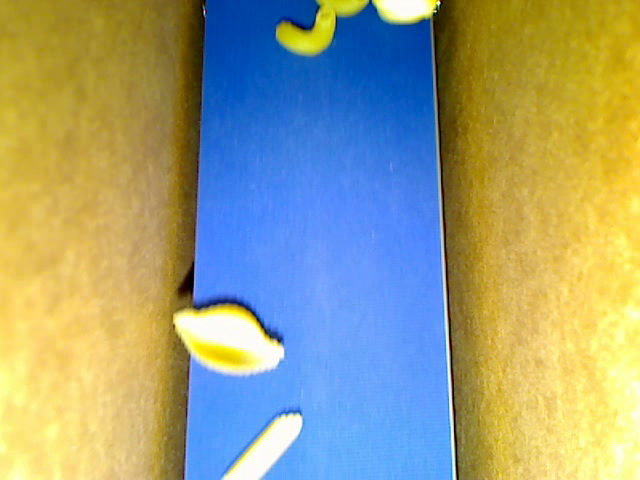elbow: (275, 4, 336, 57)
penne: (219, 411, 304, 478)
shell: (171, 302, 285, 375)
